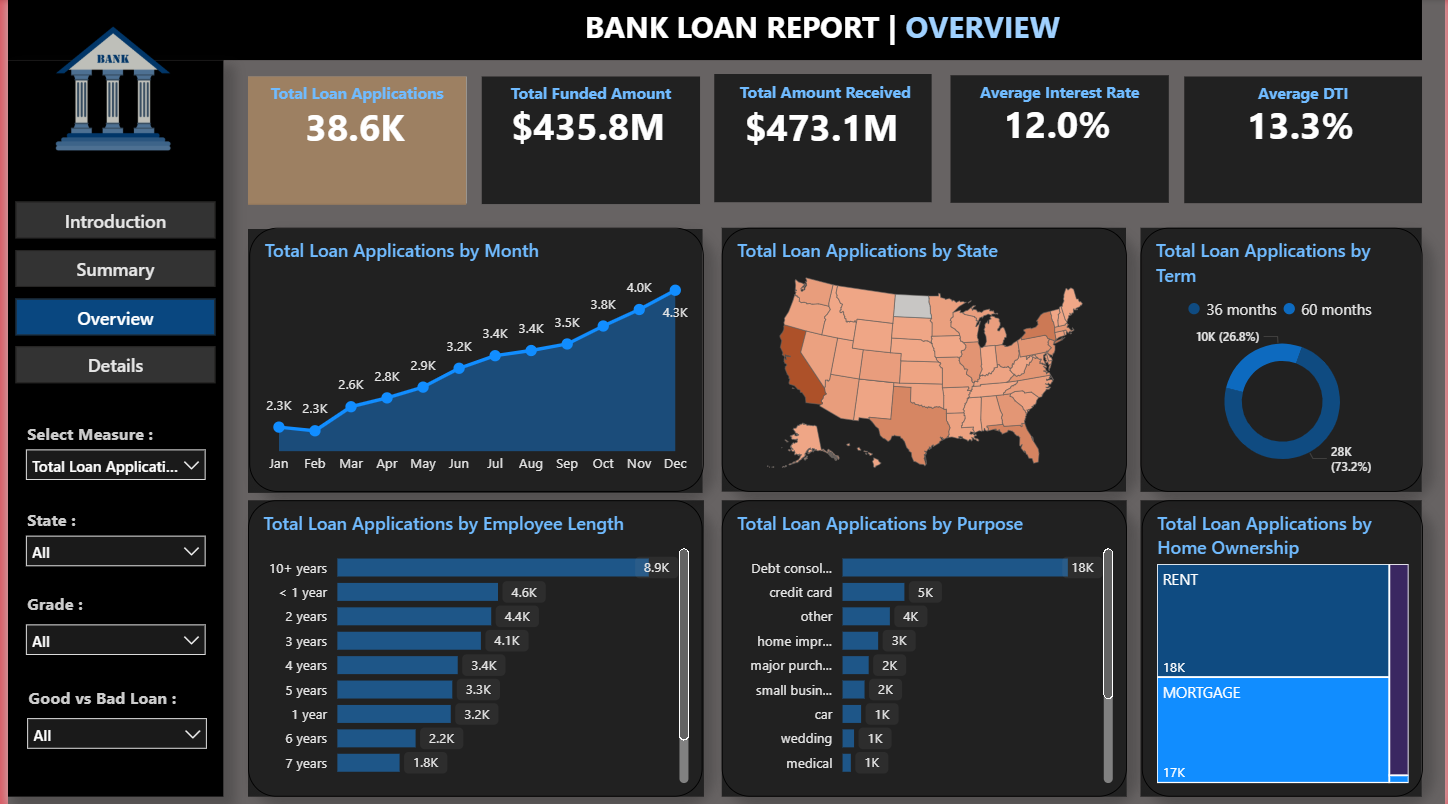

The page's visual inventory and layout, read from the dashboard file:
{"tool":"powerbi","page":{"name":"Overview","canvas":[1280,720],"ordinal":2},"visuals":[{"type":"shape","box":[629.2,66.4,193.8,114.2],"z":0,"group":"g3"},{"type":"shape","box":[839.7,67.5,194.5,114],"z":0,"group":"g4"},{"type":"shape","box":[214.3,68.6,194.3,114.3],"z":0,"group":"g1"},{"type":"shape","box":[421.4,68.6,194.5,114],"z":0,"group":"g2"},{"type":"shape","box":[1047.5,69,211.7,112.9],"z":0,"group":"g5"},{"type":"shape","box":[214.3,204.3,405,235],"z":0},{"type":"shape","box":[0,0,1259.3,54.7],"z":1000},{"type":"card","fields":{"Values":["table_measures.avg_interest_rate"]},"box":[851.5,82.1,165.9,58.4],"z":1000,"group":"g4"},{"type":"card","fields":{"Values":["table_measures.total_loan_appl"]},"box":[247.2,83.2,124.3,61.3],"z":1000,"group":"g1"},{"type":"card","fields":{"Values":["table_measures.total_funded_amt"]},"box":[433.2,83.2,165.9,58.4],"z":1000,"group":"g2"},{"type":"card","fields":{"Values":["table_measures.avg_DTI"]},"box":[1060.3,83.4,180.6,57.8],"z":1000,"group":"g5"},{"type":"card","fields":{"Values":["table_measures.total_received_amt"]},"box":[643.2,85.3,163.1,55.8],"z":1000,"group":"g3"},{"type":"shape","box":[0,54.7,191.9,655.8],"z":2000},{"type":"textbox","box":[632.2,67,191,41.6],"z":2000,"group":"g3"},{"type":"textbox","box":[839.7,67.5,194.5,38.9],"z":2000,"group":"g4"},{"type":"textbox","box":[214.3,68.6,194.3,39],"z":2000,"group":"g1"},{"type":"textbox","box":[421.4,68.6,194.5,38.9],"z":2000,"group":"g2"},{"type":"textbox","box":[1047.5,69,211.7,38.5],"z":2000,"group":"g5"},{"type":"textbox","box":[12.4,448.7,119.7,38.5],"z":3000},{"type":"textbox","box":[509.2,1.4,447.3,49.5],"z":4000},{"type":"group","id":"g1","title":"Group 1","box":[214.3,68.6,194.3,114.3],"z":5000},{"type":"group","id":"g2","title":"Group 1","box":[421.4,68.6,194.5,114],"z":6000},{"type":"group","id":"g3","title":"Group 1","box":[629.2,66.4,194,114.2],"z":7000},{"type":"group","id":"g4","title":"Group 1","box":[839.7,67.5,194.5,114],"z":8000},{"type":"group","id":"g5","title":"Group 1","box":[1047.5,69,211.7,112.9],"z":9000},{"type":"shape","box":[635.9,203.7,360,235],"z":10000},{"type":"slicer","fields":{"Values":["financial_loan.address_state"]},"box":[5.5,468,180.3,50.9],"z":11000},{"type":"slicer","fields":{"Values":["financial_loan.grade"]},"box":[5.5,546.4,180.3,50.9],"z":12000},{"type":"textbox","box":[12.4,523,119.7,38.5],"z":13000},{"type":"slicer","fields":{"Values":["financial_loan.Good vs Band Loan"]},"box":[6.9,630.4,180.3,50.9],"z":14000},{"type":"textbox","box":[13.8,607,163.8,38.5],"z":15000},{"type":"areaChart","fields":{"Y":["table_measures.total_loan_appl"],"Category":["Date Table.Month"]},"box":[214.7,203.7,404.6,235.4],"z":16000},{"type":"slicer","fields":{"Values":["Select Measure.Select Measure"]},"box":[5.5,390.9,180.3,55.1],"z":17000},{"type":"shape","box":[213.3,445.9,406,264.3],"z":18000},{"type":"shapeMap","fields":{"Value":["table_measures.total_loan_appl"],"Category":["financial_loan.address_state"]},"box":[635.9,203.7,360.6,235.4],"z":19000},{"type":"shape","box":[1008.9,203.7,250.5,235.4],"z":20000},{"type":"donutChart","fields":{"Y":["table_measures.total_loan_appl"],"Category":["financial_loan.term"]},"box":[1008.1,203.5,251.2,234.9],"z":21000},{"type":"barChart","fields":{"Y":["table_measures.total_loan_appl"],"Category":["financial_loan.emp_length"]},"box":[213.3,445.9,404.6,264.3],"z":22000},{"type":"textbox","box":[12.4,371.6,139,38.5],"z":23000},{"type":"shape","box":[635.9,445.9,360.6,264.3],"z":24000},{"type":"barChart","fields":{"Y":["table_measures.total_loan_appl"],"Category":["financial_loan.purpose"]},"box":[635.9,445.9,360.6,264.3],"z":25000},{"type":"shape","box":[1008.9,445.9,250.5,264.3],"z":26000},{"type":"treemap","fields":{"Values":["table_measures.total_loan_appl"],"Group":["financial_loan.home_ownership"]},"box":[1009.3,446.5,250,264],"z":27000},{"type":"pageNavigator","box":[6.9,180.3,178.9,163.8],"z":28000},{"type":"image","box":[0,1.4,187.2,156.9],"z":29000}]}

Visuals, with their boxes in screenshot pixels (x1, y1, x2, y2), scaled from the page's 1280x720 canvas onto the 1448x804 screenshot:
shape: box=[712, 74, 931, 202]
shape: box=[950, 75, 1170, 203]
shape: box=[242, 77, 462, 204]
shape: box=[477, 77, 697, 204]
shape: box=[1185, 77, 1424, 203]
shape: box=[242, 228, 701, 491]
shape: box=[0, 0, 1425, 61]
card - table_measures.avg_interest_rate: box=[963, 92, 1151, 157]
card - table_measures.total_loan_appl: box=[280, 93, 420, 161]
card - table_measures.total_funded_amt: box=[490, 93, 678, 158]
card - table_measures.avg_DTI: box=[1199, 93, 1404, 158]
card - table_measures.total_received_amt: box=[728, 95, 912, 158]
shape: box=[0, 61, 217, 793]
textbox: box=[715, 75, 931, 121]
textbox: box=[950, 75, 1170, 119]
textbox: box=[242, 77, 462, 120]
textbox: box=[477, 77, 697, 120]
textbox: box=[1185, 77, 1424, 120]
textbox: box=[14, 501, 149, 544]
textbox: box=[576, 2, 1082, 57]
"Group 1" group: box=[242, 77, 462, 204]
"Group 1" group: box=[477, 77, 697, 204]
"Group 1" group: box=[712, 74, 931, 202]
"Group 1" group: box=[950, 75, 1170, 203]
"Group 1" group: box=[1185, 77, 1424, 203]
shape: box=[719, 227, 1127, 490]
slicer - financial_loan.address_state: box=[6, 523, 210, 579]
slicer - financial_loan.grade: box=[6, 610, 210, 667]
textbox: box=[14, 584, 149, 627]
slicer - financial_loan.Good vs Band Loan: box=[8, 704, 212, 761]
textbox: box=[16, 678, 201, 721]
areaChart - table_measures.total_loan_appl x Date Table.Month: box=[243, 227, 701, 490]
slicer - Select Measure.Select Measure: box=[6, 437, 210, 498]
shape: box=[241, 498, 701, 793]
shapeMap - table_measures.total_loan_appl x financial_loan.address_state: box=[719, 227, 1127, 490]
shape: box=[1141, 227, 1425, 490]
donutChart - table_measures.total_loan_appl x financial_loan.term: box=[1140, 227, 1425, 490]
barChart - table_measures.total_loan_appl x financial_loan.emp_length: box=[241, 498, 699, 793]
textbox: box=[14, 415, 171, 458]
shape: box=[719, 498, 1127, 793]
barChart - table_measures.total_loan_appl x financial_loan.purpose: box=[719, 498, 1127, 793]
shape: box=[1141, 498, 1425, 793]
treemap - table_measures.total_loan_appl x financial_loan.home_ownership: box=[1142, 499, 1425, 793]
pageNavigator: box=[8, 201, 210, 384]
image: box=[0, 2, 212, 177]
